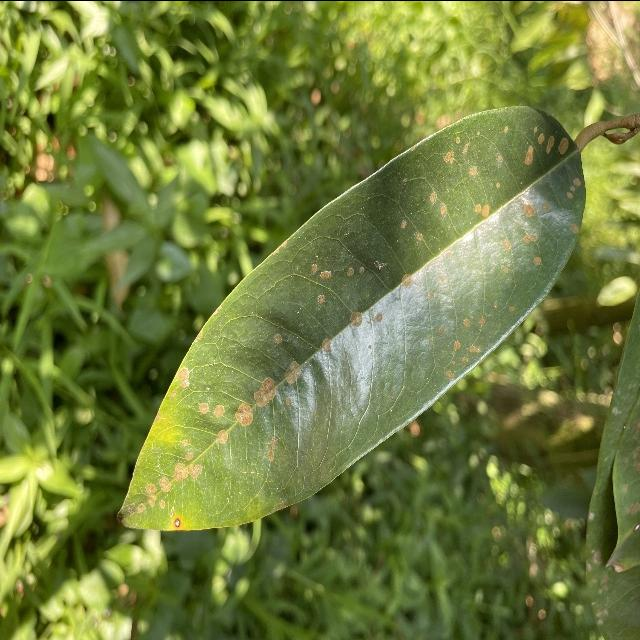Algal Leaf Spot: (108, 93, 595, 538)
